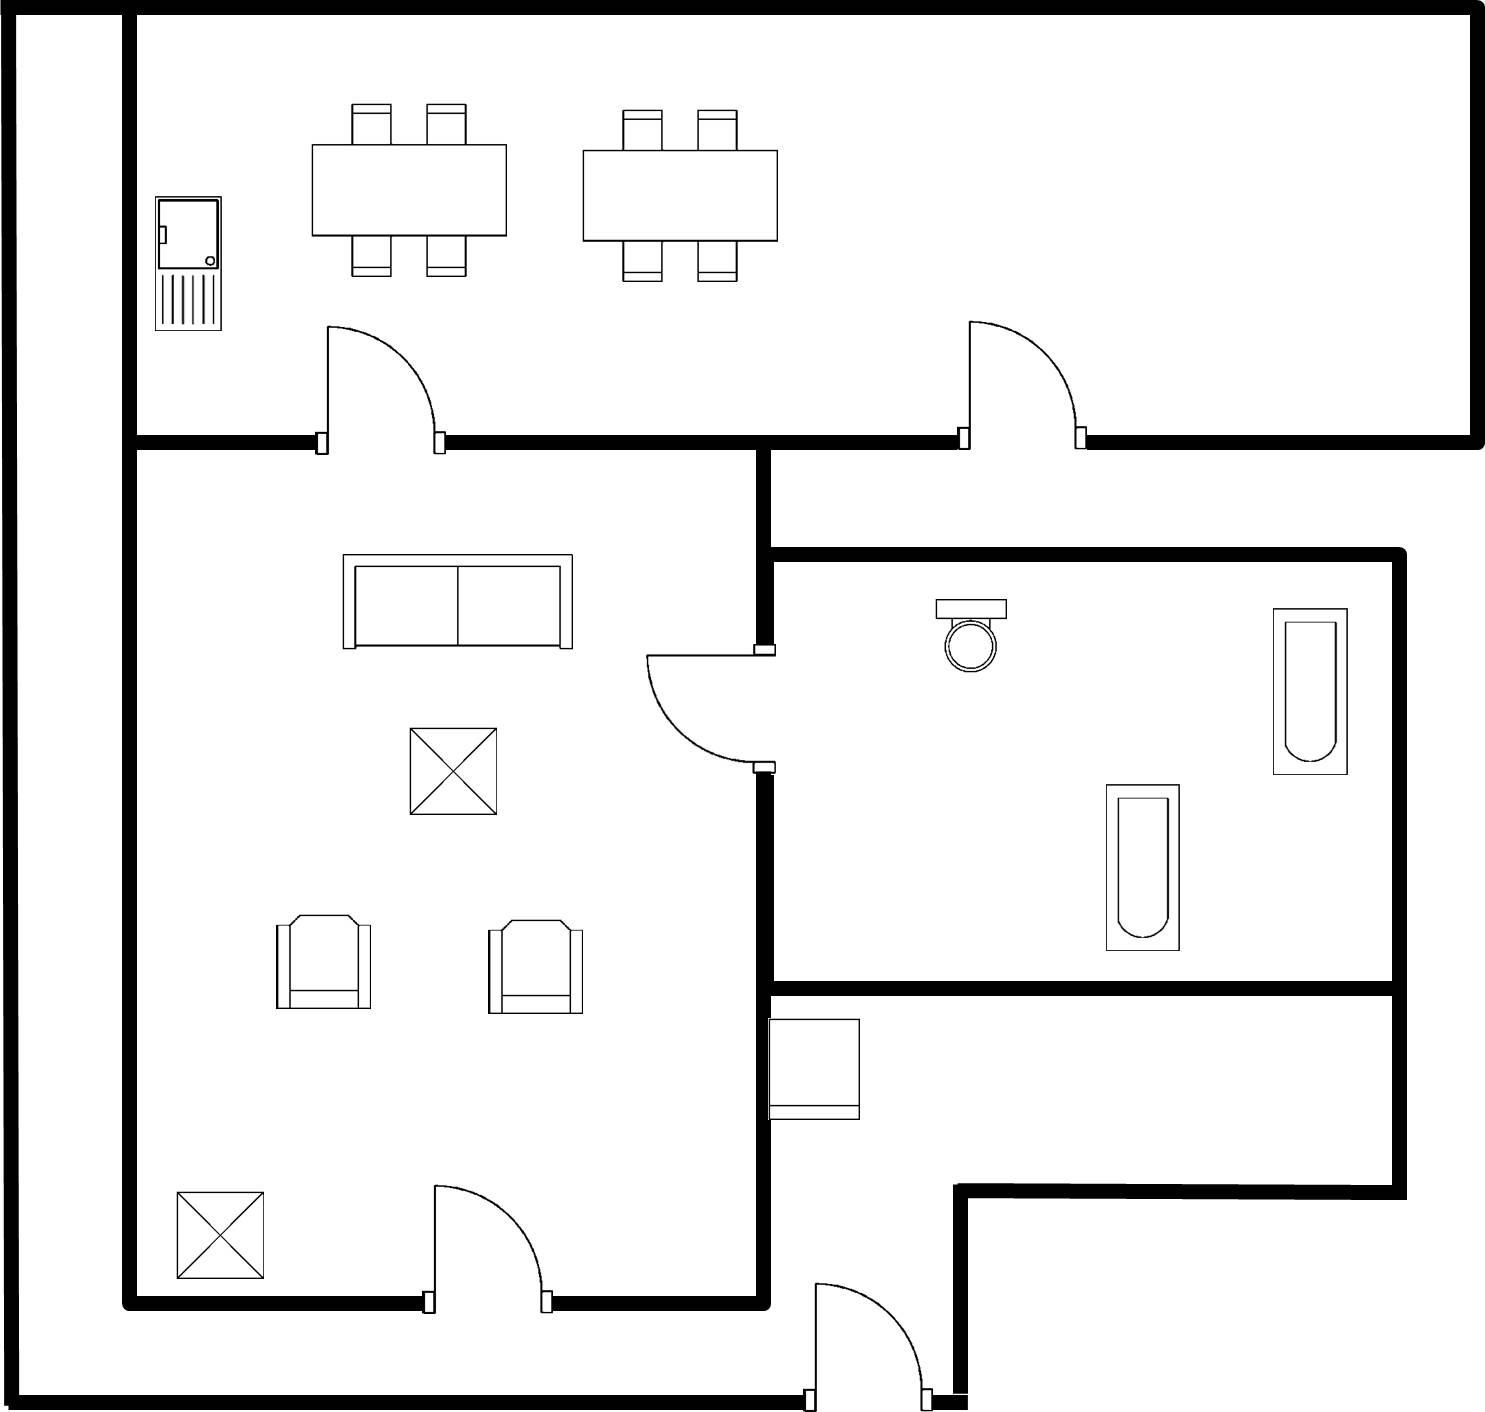armchair: (262, 902, 384, 1021), (471, 910, 590, 1021)
coffee_table: (399, 718, 511, 824), (169, 1176, 273, 1288)
dining_table: (571, 92, 793, 298), (296, 91, 518, 294)
large_sink: (925, 588, 1019, 684)
large_sofa: (330, 541, 581, 666)
sink: (144, 189, 237, 343)
small_sofa: (756, 1011, 867, 1133)
tub: (1259, 596, 1359, 787), (1095, 773, 1192, 966)
